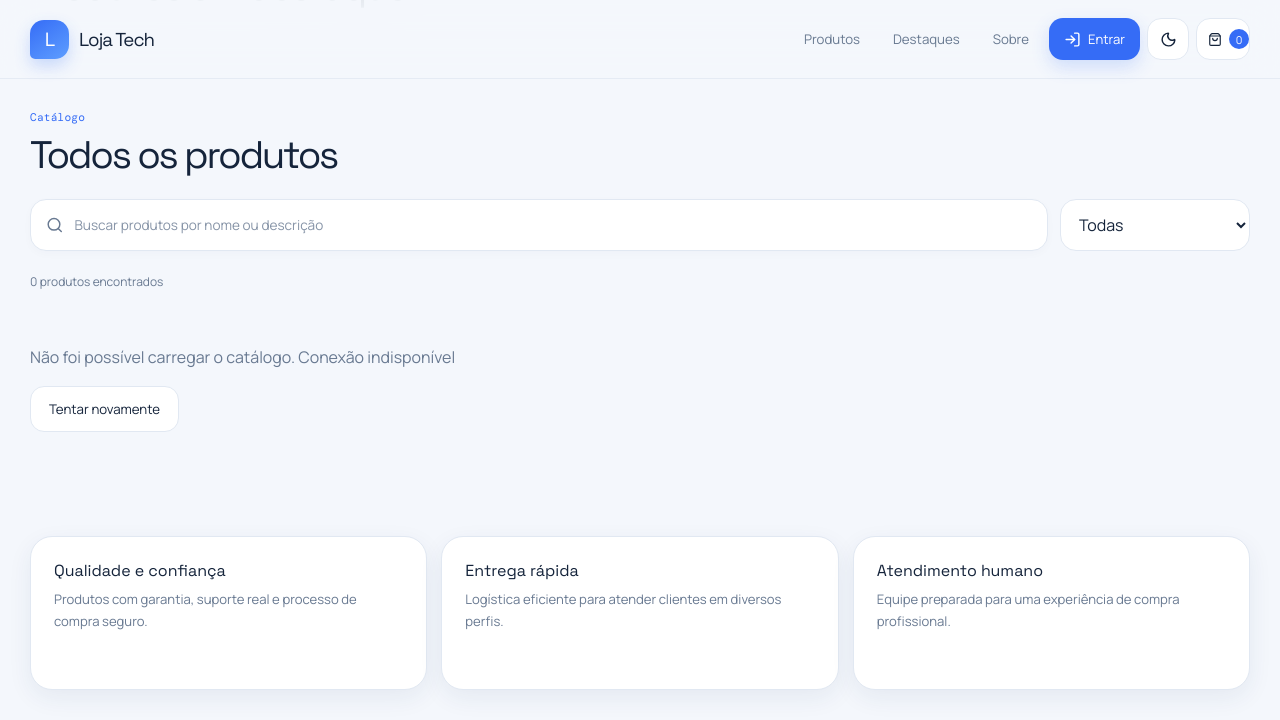
Test: entrada e catálogo › erro de catálogo oferece nova tentativa e mostra os produtos ao recuperar
The image size is (1280, 720).
(page scrolled)
Expected: the message shows "Não foi possível carregar o catálogo", x1=30 y1=346 x2=298 y2=368
Click the button "Tentar novamente". click: (104, 409)
box: x1=30 y1=386 x2=179 y2=432
(page scrolled)
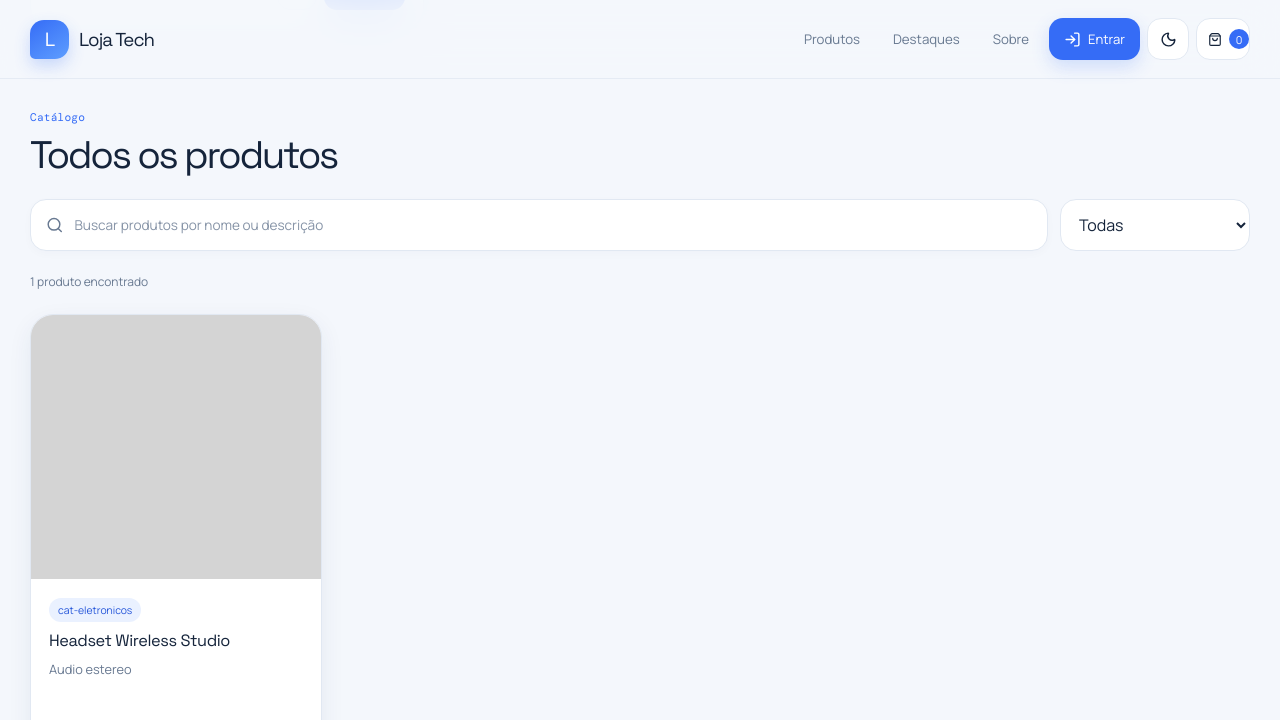
Expected: the message "Não foi possível carregar o catálogo. Conexão indisponível Tentar novamente" is gone
